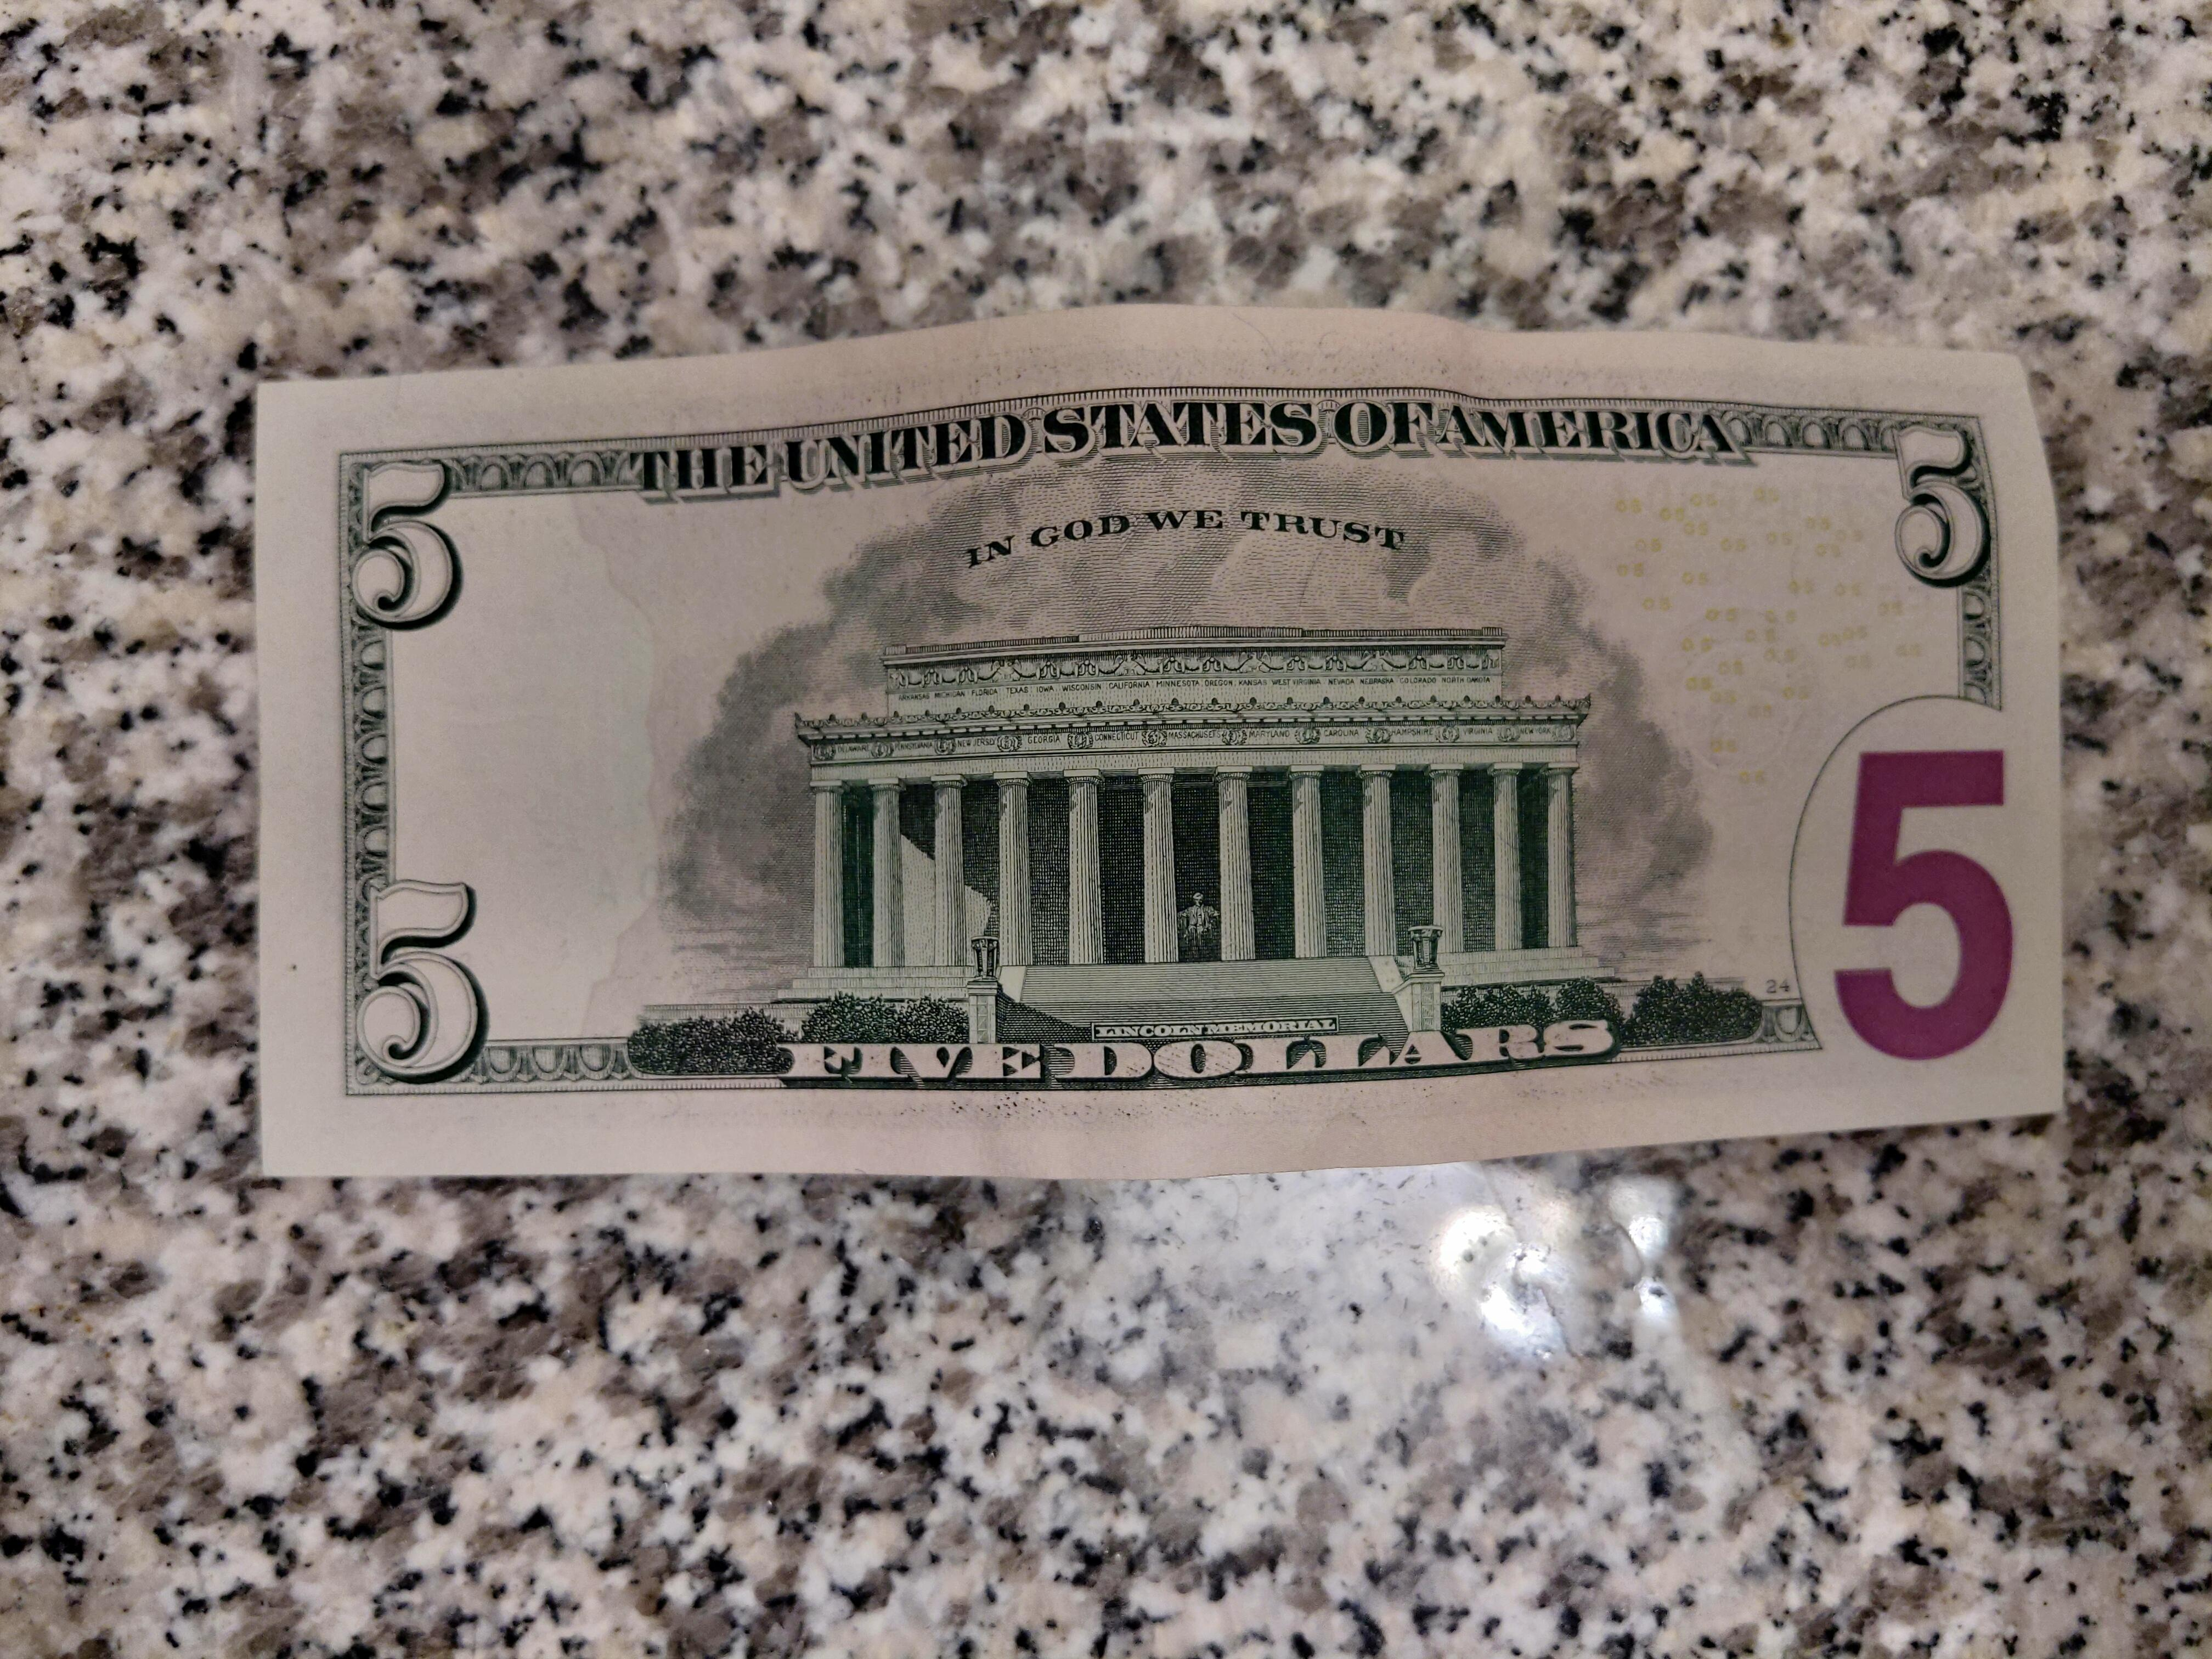FiveBill: (251, 301, 2071, 1187)
